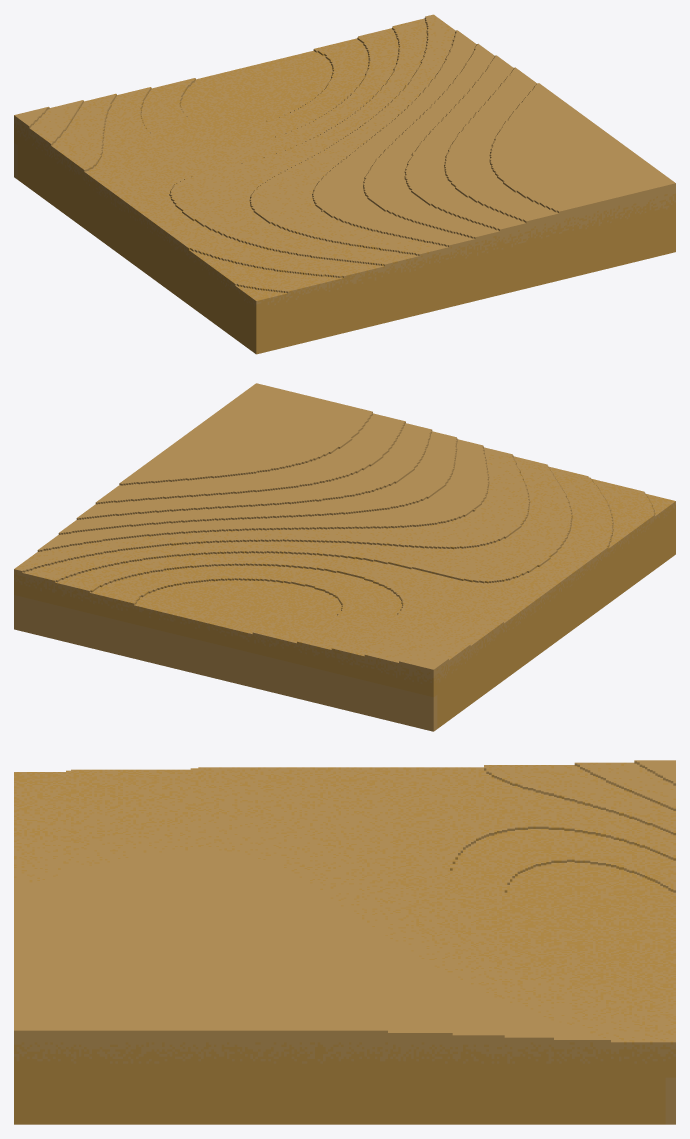
File: Marte-9.obj
The picture shows the model from 3 angles, top to bottom: view 1: azimuth 30°, elevation 25°; view 2: azimuth 150°, elevation 25°; view 3: azimuth 270°, elevation 25°; orthographic projection. The views are drawn at different scales.
Bounding box in the file's own units: 25.5 × 4 × 25.5.
Materials: 1 (1 with a texture image).
